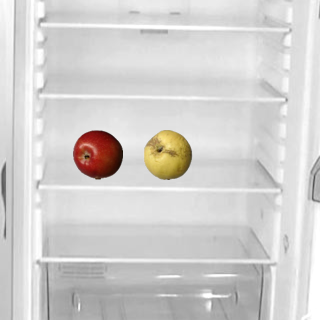Apple Braeburn: (72, 129, 122, 179)
Apple Golden 1: (142, 129, 192, 179)
